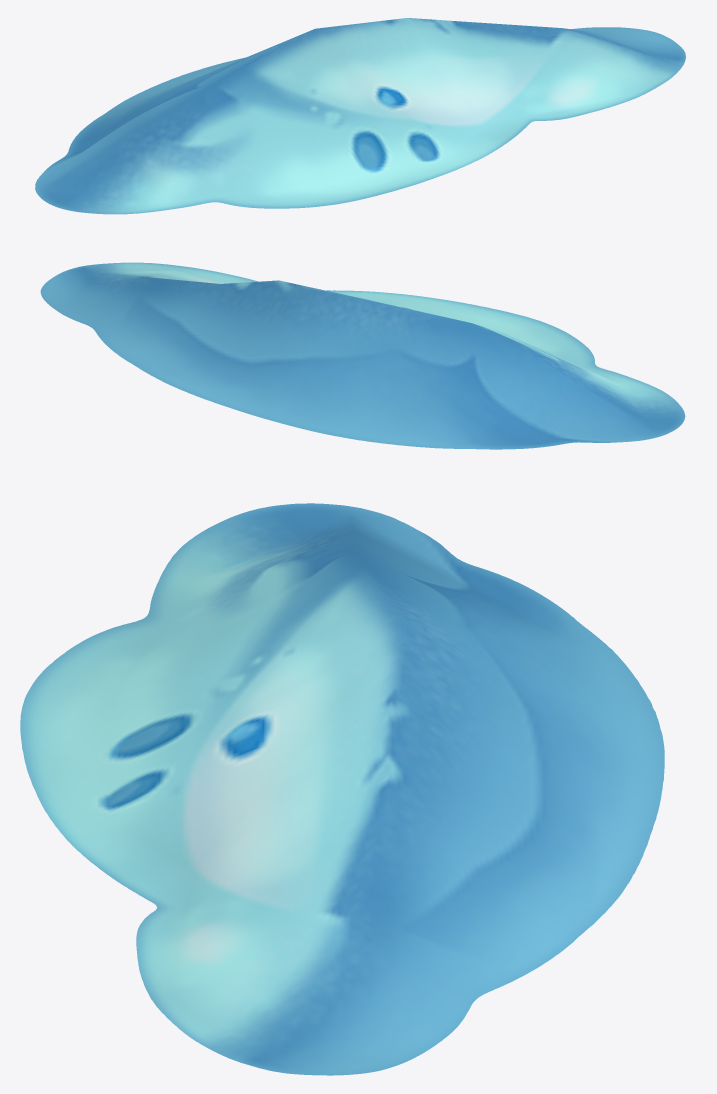
File: Chapter3Scene1Model7.FBX
3 renders of one model, top to bottom at view 1: azimuth 30°, elevation 25°; view 2: azimuth 150°, elevation 25°; view 3: azimuth 270°, elevation 25°, orthographic. The views are drawn at different scales.
Parts seen in each view (by area): view 1: Chapter3Scene1Model7; view 2: Chapter3Scene1Model7; view 3: Chapter3Scene1Model7.
Boxes of the visible parts, left/top/right/bottom form: Chapter3Scene1Model7: left=35, top=18, right=685, bottom=214; Chapter3Scene1Model7: left=40, top=262, right=685, bottom=449; Chapter3Scene1Model7: left=20, top=503, right=664, bottom=1075.
Size of the model in its own units: 227 by 113 by 26.69.
